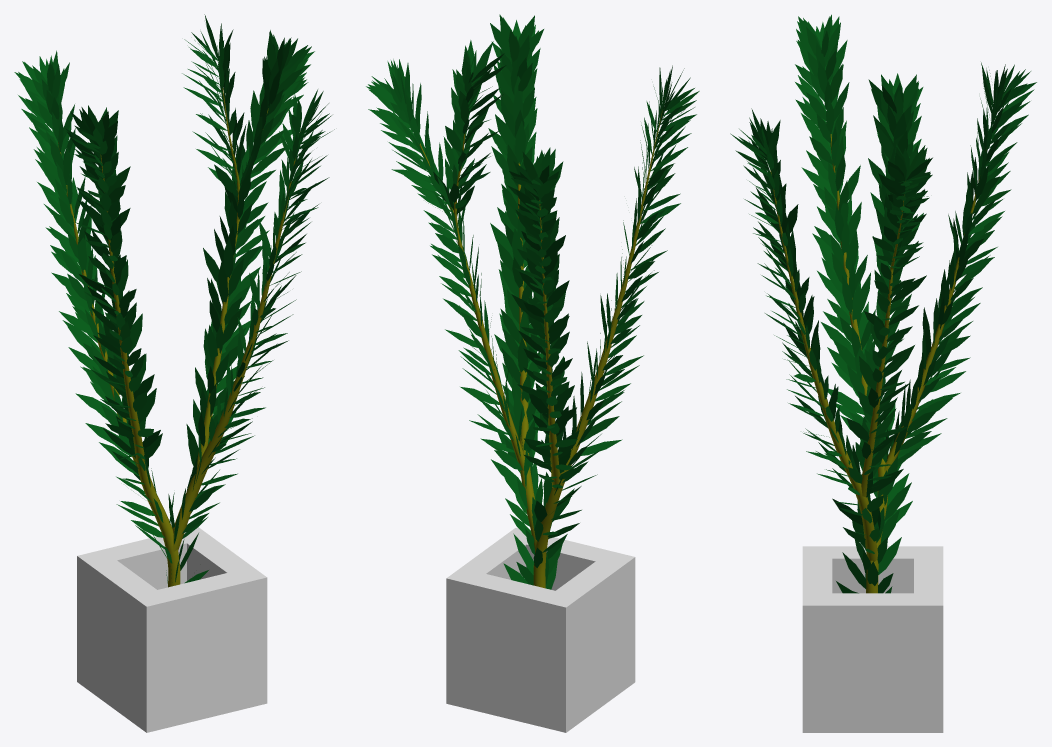
The model's file is vase 2.fbx.
3 renders of one model, left to right at view 1: azimuth 30°, elevation 25°; view 2: azimuth 150°, elevation 25°; view 3: azimuth 270°, elevation 25°, orthographic.
Parts seen in each view (by area): view 1: Cube.001; view 2: Cube.001; view 3: Cube.001.
Part boxes in pixels (x1,y1,x2,y2): Cube.001: (14, 14, 334, 732); Cube.001: (366, 14, 699, 732); Cube.001: (730, 14, 1036, 732).
Size of the model in its own units: 257 by 557 by 237.
